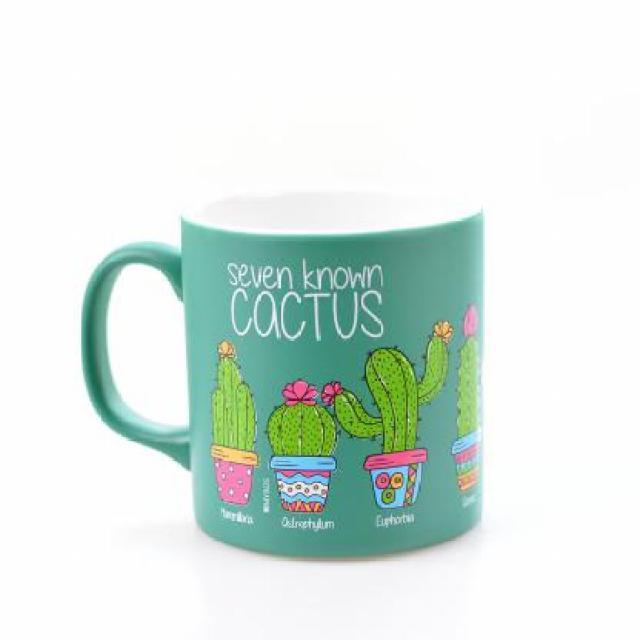taza: (77, 186, 490, 562)
